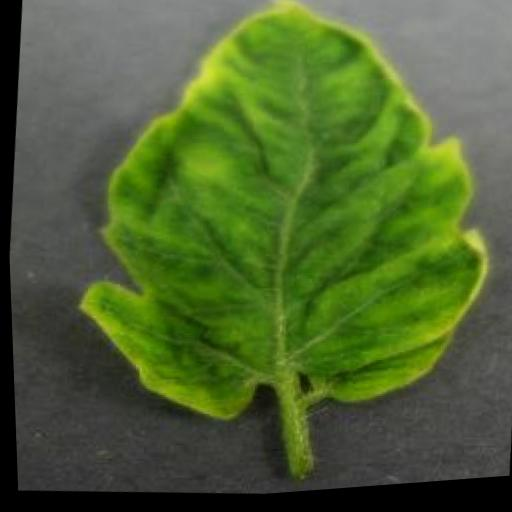Yellow Leaf Curl Virus: (53, 0, 512, 457)
